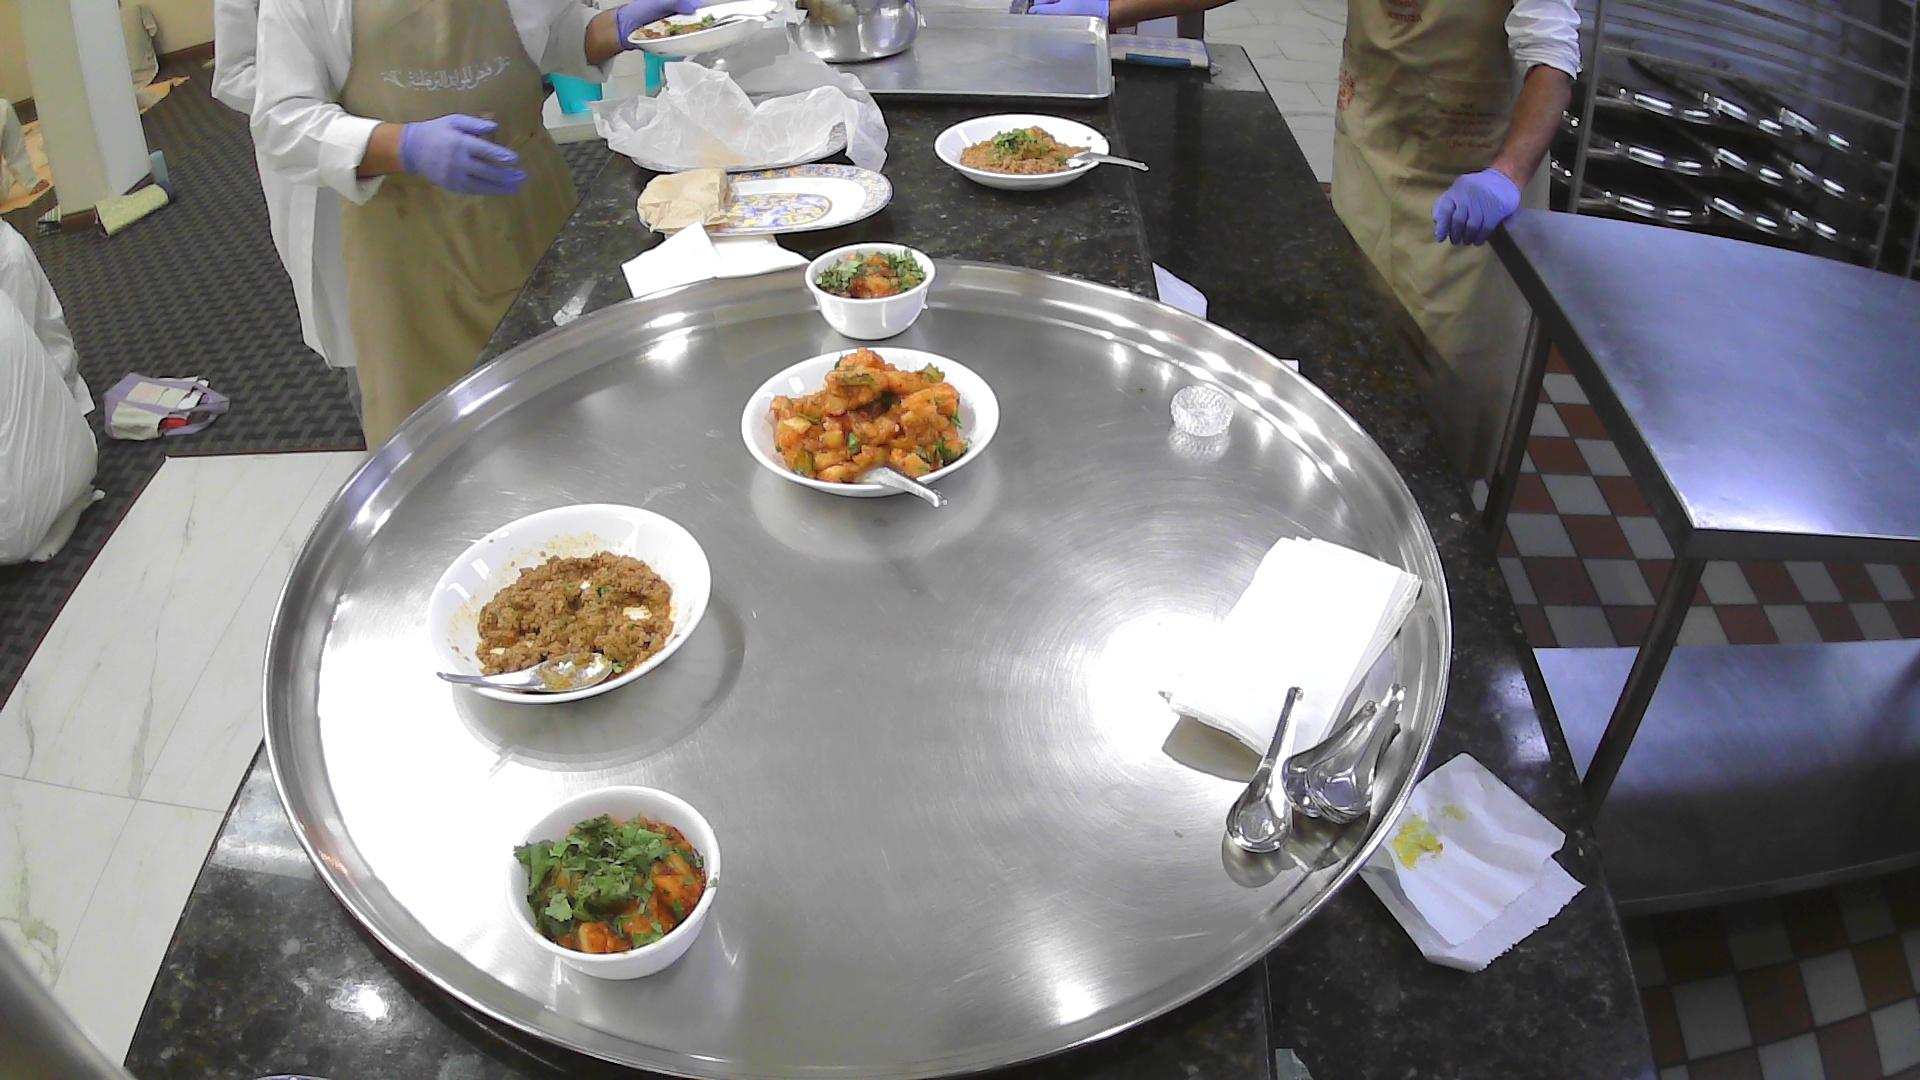thaal: (256, 254, 1461, 1080)
